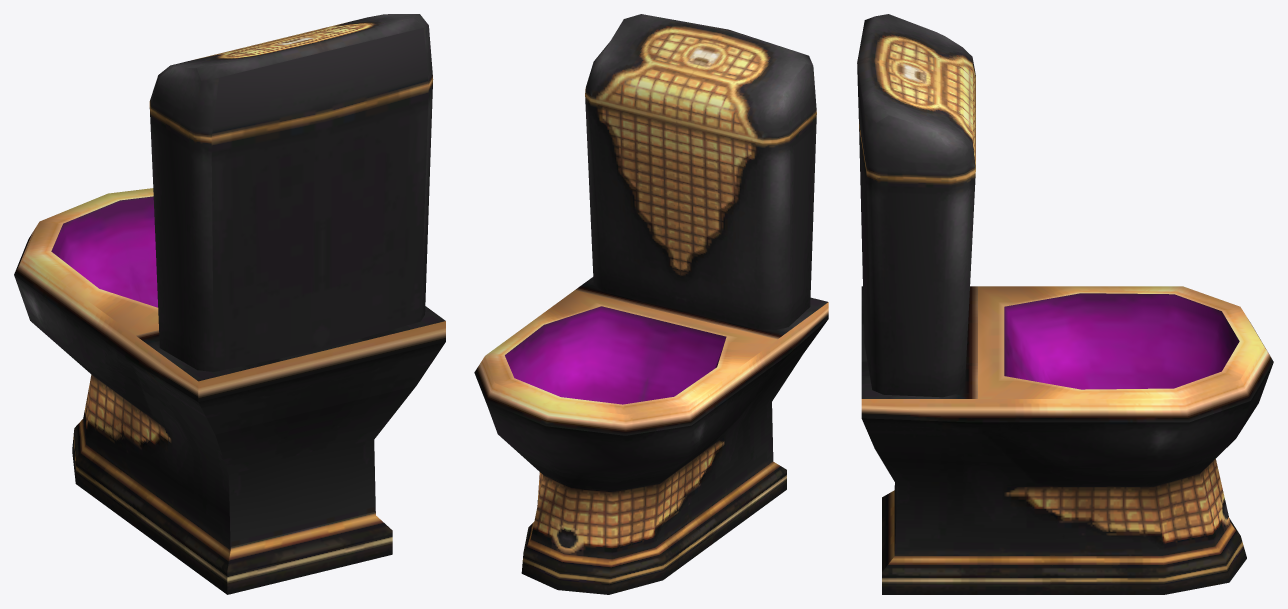
Rendered from furni_0201215_02.FBX.
3 renders of one model, left to right at view 1: azimuth 30°, elevation 25°; view 2: azimuth 150°, elevation 25°; view 3: azimuth 270°, elevation 25°, orthographic. The views are drawn at different scales.
Visible parts, largest first — view 1: furni_0201215_02; view 2: furni_0201215_02; view 3: furni_0201215_02.
Part boxes in pixels (left/top/right/bottom): furni_0201215_02: left=14, top=14, right=445, bottom=594; furni_0201215_02: left=474, top=14, right=828, bottom=594; furni_0201215_02: left=857, top=14, right=1273, bottom=594.
Size of the model in its own units: 56.26 by 109 by 82.06.
